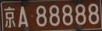A: (18, 7, 28, 27)
